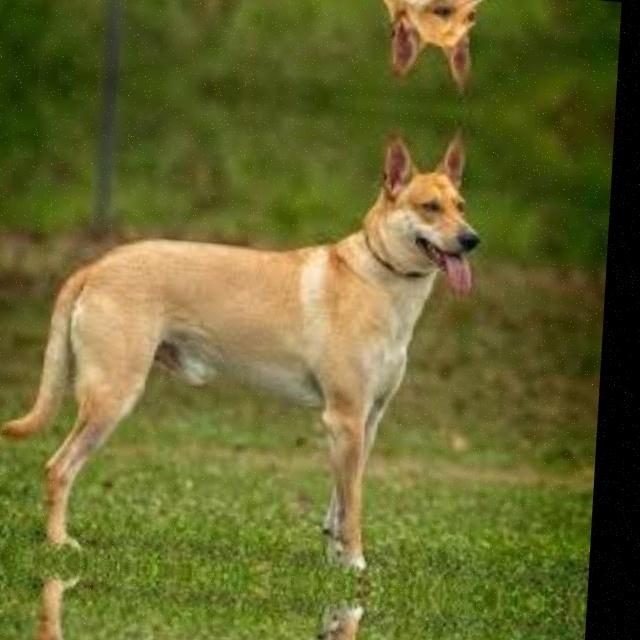dog: (0, 82, 508, 598), (13, 0, 516, 103), (0, 555, 481, 640)
